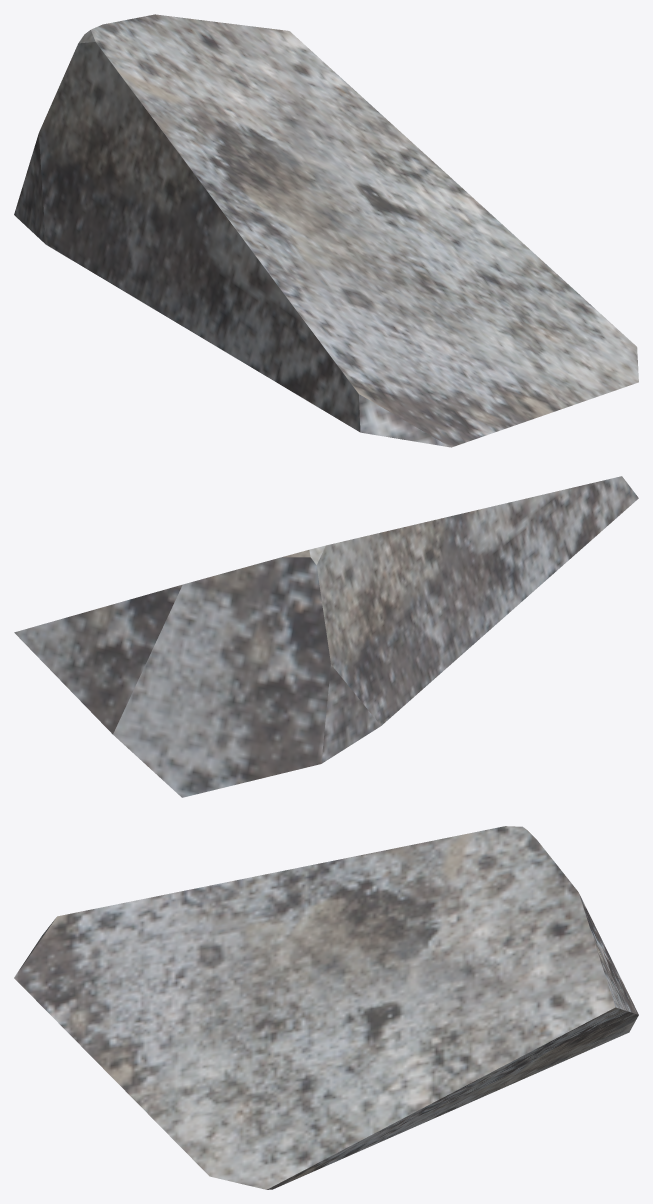
The model's file is Asteroid_Large_001_02_009_03_023.fbx.
3 renders of one model, top to bottom at view 1: azimuth 30°, elevation 25°; view 2: azimuth 150°, elevation 25°; view 3: azimuth 270°, elevation 25°, orthographic. The views are drawn at different scales.
Parts seen in each view (by area): view 1: Asteroid_Large_001_02_009_03_023; view 2: Asteroid_Large_001_02_009_03_023; view 3: Asteroid_Large_001_02_009_03_023.
Boxes of the visible parts, bbox=[...] form: Asteroid_Large_001_02_009_03_023: bbox=[14, 14, 638, 447]; Asteroid_Large_001_02_009_03_023: bbox=[14, 476, 638, 797]; Asteroid_Large_001_02_009_03_023: bbox=[14, 826, 638, 1189].
Bounding box in the file's own units: 5.99 × 3.85 × 9.57.
